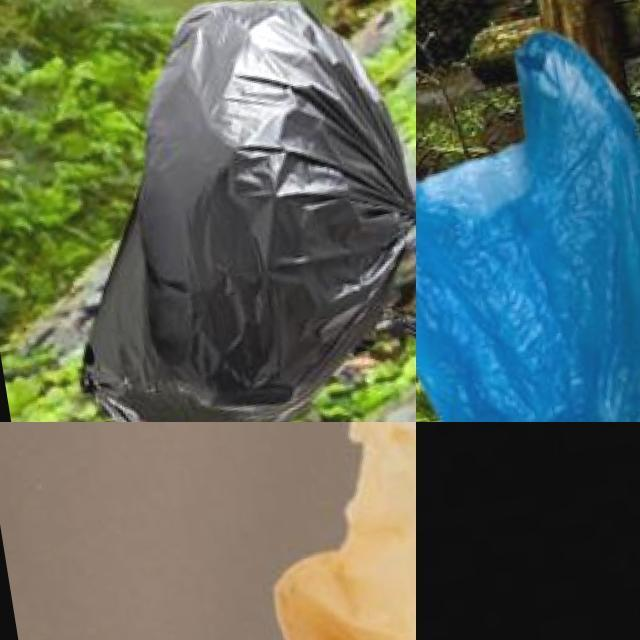waste: (39, 0, 416, 422), (416, 12, 640, 422), (222, 422, 416, 640)
